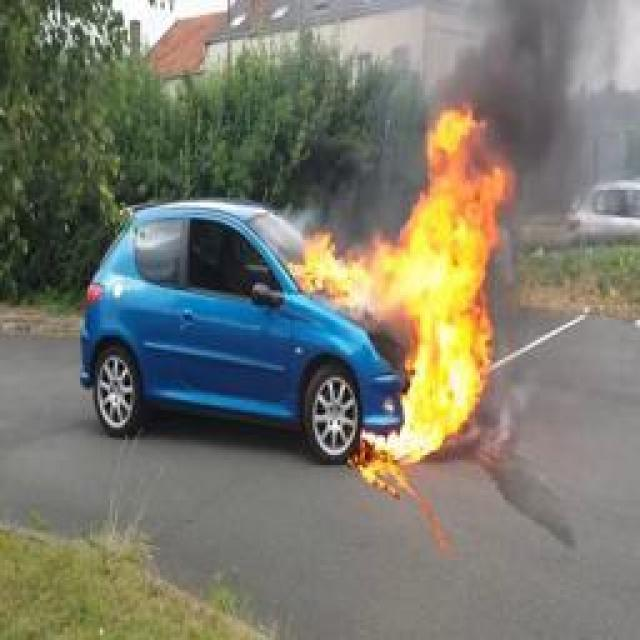Fire: (290, 106, 512, 466)
